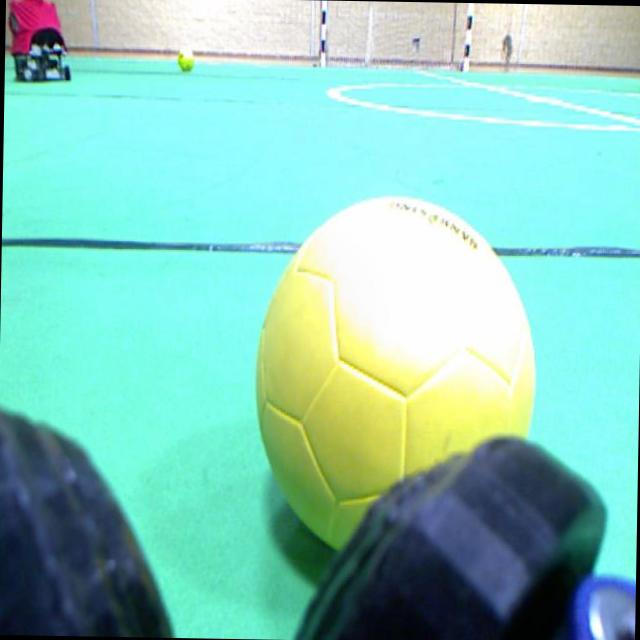ball: (256, 197, 533, 547), (177, 46, 193, 70)
